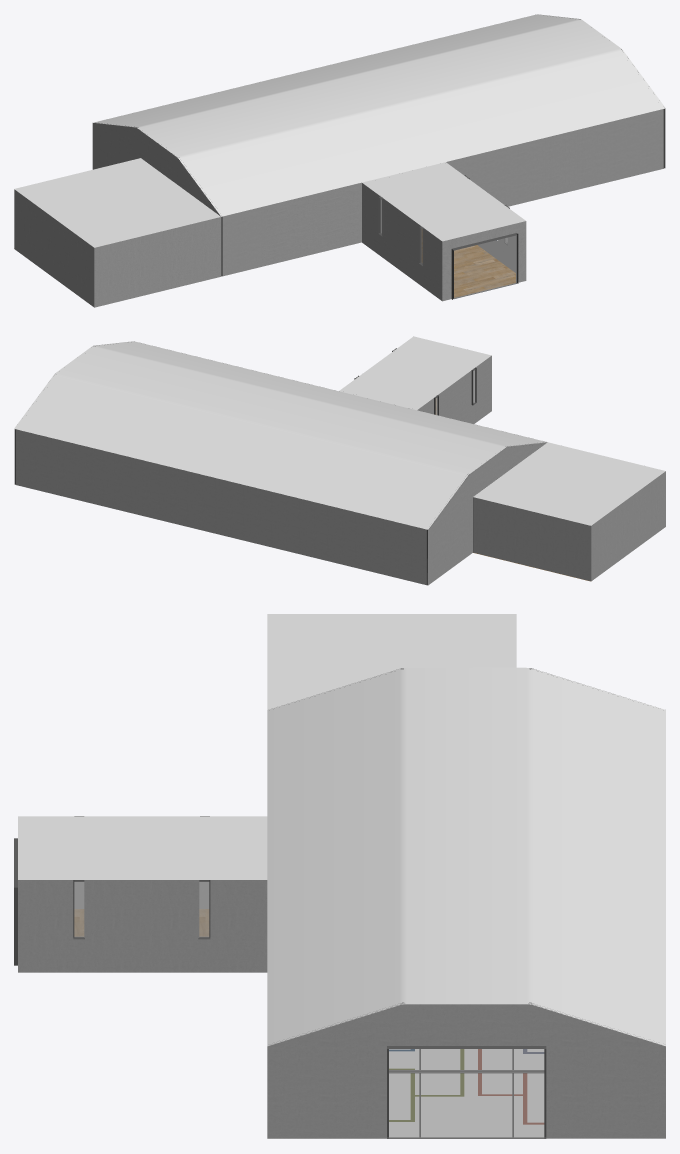
The model's file is room.glb.
The picture shows the model from 3 angles, top to bottom: view 1: azimuth 30°, elevation 25°; view 2: azimuth 150°, elevation 25°; view 3: azimuth 270°, elevation 25°; orthographic projection. The views are drawn at different scales.
Parts seen in each view (by area): view 1: Roof_virtual lab_3, Wall_virtual lab_2, Wall_lobby, Roof_lobby, Wall_social space, Roof_social space, Big_door_frame_virtual lab.001, Roof_virtual lab_1, Ground_social space, Wall_virtual lab_1; view 2: Roof_virtual lab_3, Wall_virtual lab_2, Wall_lobby, Roof_lobby, Roof_social space, Wall_virtual lab_1, Wall_social space, Roof_virtual lab_1; view 3: Roof_virtual lab_3, Wall_social space, Wall_virtual lab_3, Roof_lobby, Roof_social space, Big_door_glass_virtual lab, Ground_virtual lab, Roof_virtual lab_2, Big_door_frame_virtual lab, Borden_marking.
Part boxes in pixels (x1,y1,x2,y2): Roof_virtual lab_3: (93,14,665,216); Wall_virtual lab_2: (222,109,663,276); Wall_lobby: (14,189,221,307); Roof_lobby: (14,158,220,247); Wall_social space: (359,161,526,301); Roof_social space: (362,162,525,241); Big_door_frame_virtual lab.001: (451,233,518,299); Roof_virtual lab_1: (93,123,220,216); Ground_social space: (422,230,515,297); Wall_virtual lab_1: (92,123,140,169); Roof_virtual lab_3: (14,341,546,529); Wall_virtual lab_2: (16,429,426,584); Wall_lobby: (473,471,665,581); Roof_lobby: (473,442,665,525); Roof_social space: (339,336,491,410); Wall_virtual lab_1: (428,497,472,585); Wall_social space: (417,355,491,423); Roof_virtual lab_1: (428,442,546,529); Roof_virtual lab_3: (267,667,665,1046); Wall_social space: (18,880,267,972); Wall_virtual lab_3: (267,1046,665,1138); Roof_lobby: (267,614,516,709); Roof_social space: (18,816,267,879); Big_door_glass_virtual lab: (389,1049,544,1138); Ground_virtual lab: (267,1049,544,1138); Roof_virtual lab_2: (269,1003,663,1045); Big_door_frame_virtual lab: (387,1046,546,1138); Borden_marking: (389,1049,544,1124).
Bounding box in the file's own units: 33.34 × 4.86 × 21.21.
28 materials, 7 textured.
